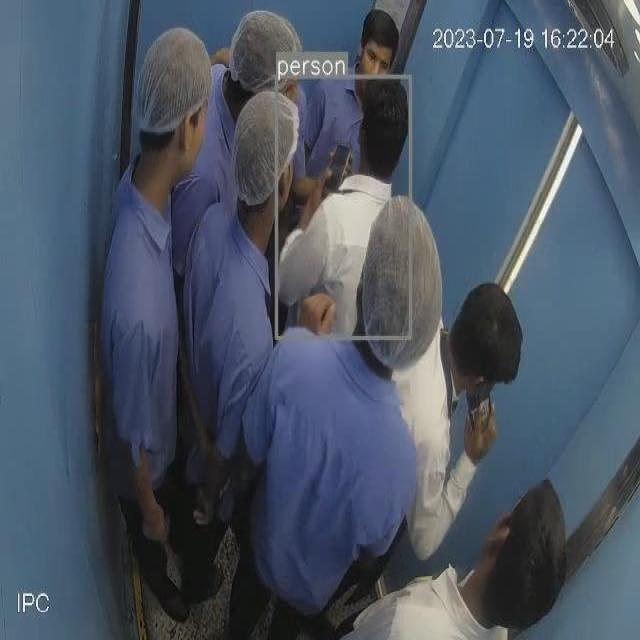person: (251, 193, 446, 640), (101, 23, 212, 625), (186, 97, 307, 574), (335, 457, 616, 640), (403, 283, 528, 564), (279, 76, 411, 340), (307, 0, 420, 189)
